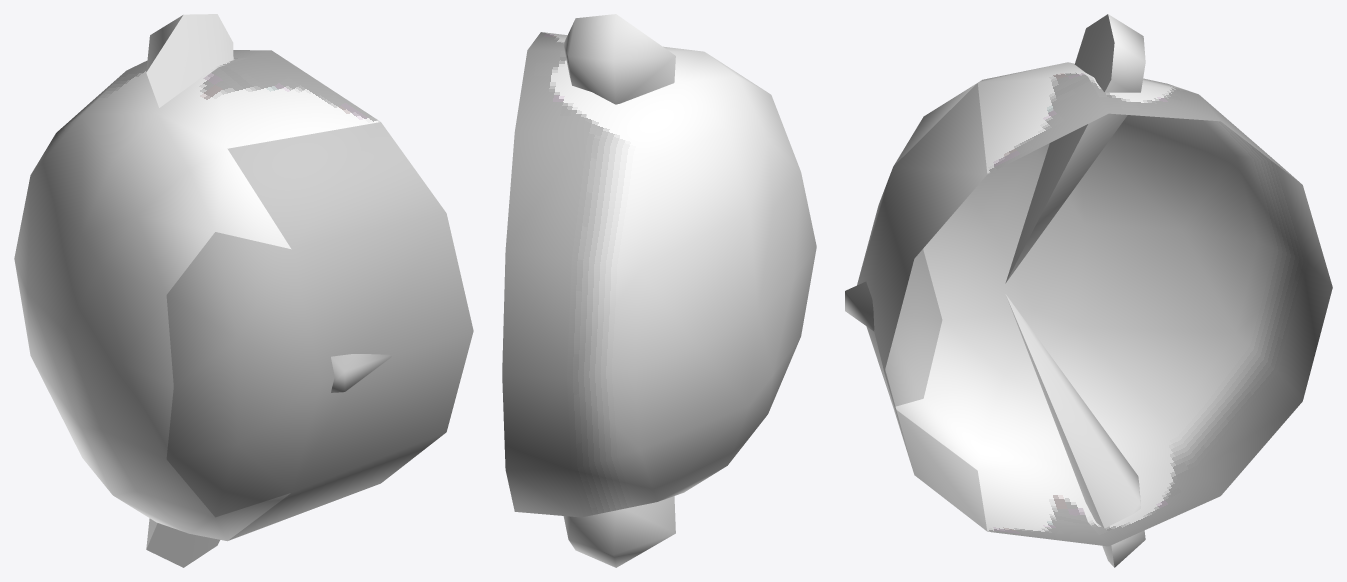
Rendered from boy03b.dae.
The picture shows the model from 3 angles, left to right: view 1: azimuth 30°, elevation 25°; view 2: azimuth 150°, elevation 25°; view 3: azimuth 270°, elevation 25°; orthographic projection.
Visible parts, largest first — view 1: vsn_mesh_0_, vsn_mesh_1_, vsn_mesh_2_; view 2: vsn_mesh_0_; view 3: vsn_mesh_0_, vsn_mesh_1_, vsn_mesh_2_.
Boxes of the visible parts, left/top/right/bottom form: vsn_mesh_0_: left=14, top=14, right=380, bottom=567; vsn_mesh_1_: left=227, top=122, right=473, bottom=540; vsn_mesh_2_: left=166, top=232, right=321, bottom=517; vsn_mesh_0_: left=502, top=14, right=816, bottom=567; vsn_mesh_0_: left=894, top=14, right=1332, bottom=567; vsn_mesh_1_: left=845, top=83, right=987, bottom=531; vsn_mesh_2_: left=857, top=169, right=942, bottom=406.
Bounding box in the file's own units: 15.5 × 26.71 × 21.59.
